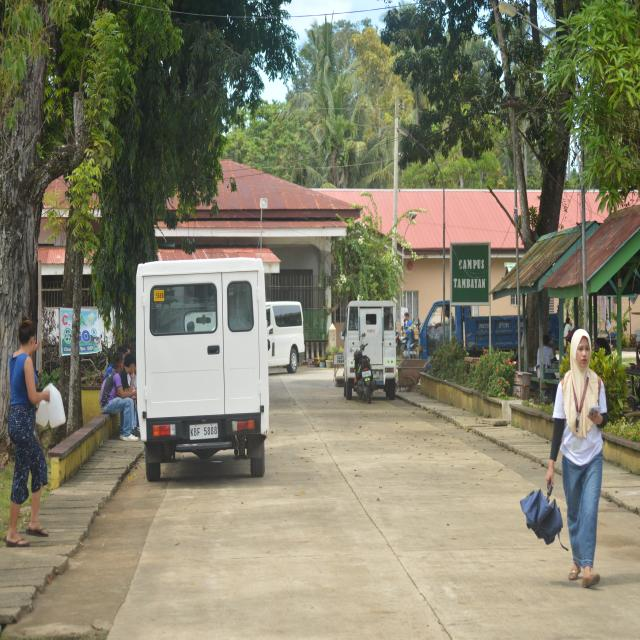person: (547, 330, 607, 587), (6, 316, 49, 547), (100, 352, 138, 441)
